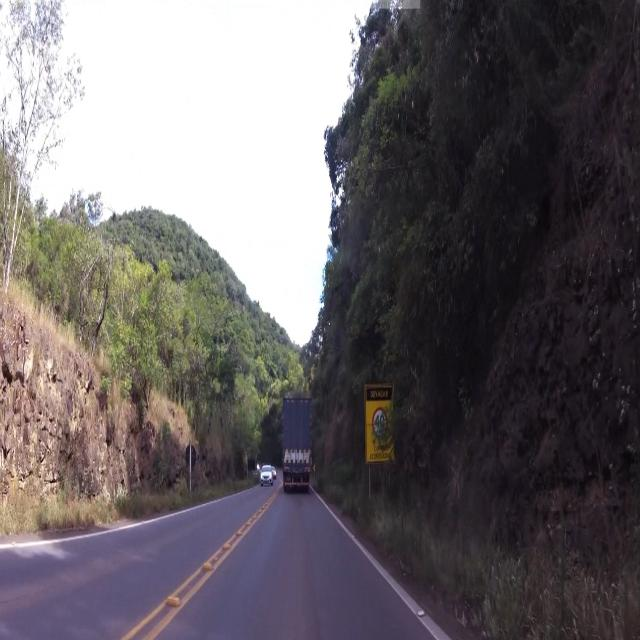R-19: (372, 405, 391, 438)
